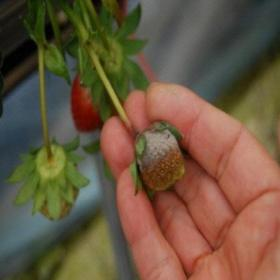Gray Mold: (135, 122, 185, 192)
